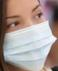with_mask: (1, 1, 58, 71)
